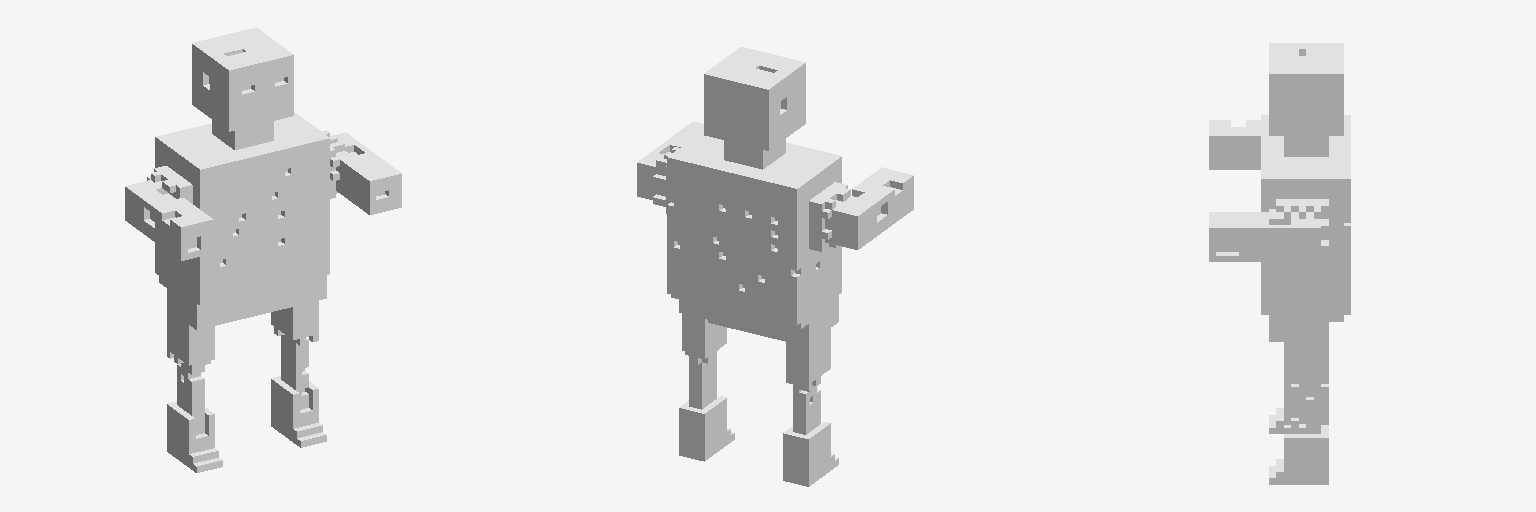
File: Zombo.obj
3 renders of one model, left to right at view 1: azimuth 30°, elevation 25°; view 2: azimuth 150°, elevation 25°; view 3: azimuth 270°, elevation 25°, orthographic.
Parts seen in each view (by area): view 1: object 1; view 2: object 1; view 3: object 1.
Boxes of the visible parts, box(x1,y1,x2,y2) form: object 1: box(125, 27, 401, 472); object 1: box(637, 47, 913, 486); object 1: box(1209, 43, 1350, 484).
Bounding box in the file's own units: 3.4 × 5.8 × 1.9.